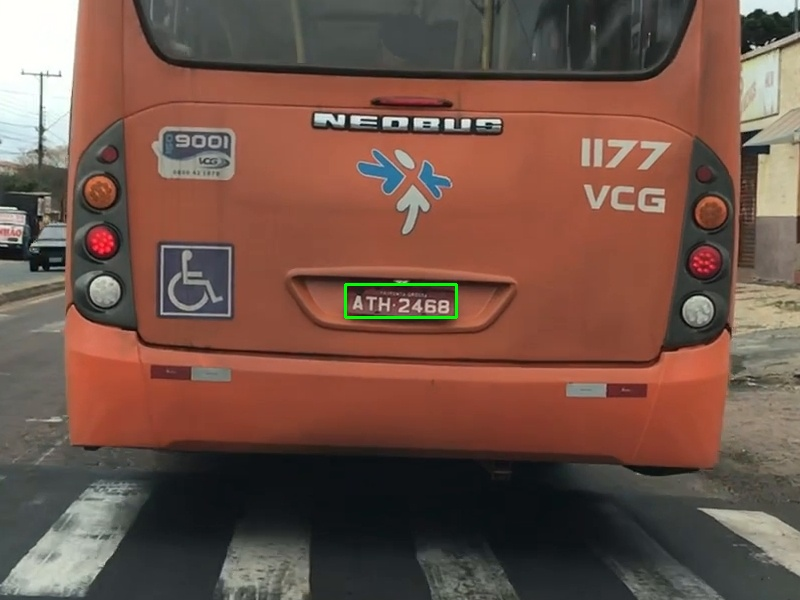placa: (345, 284, 456, 317)
